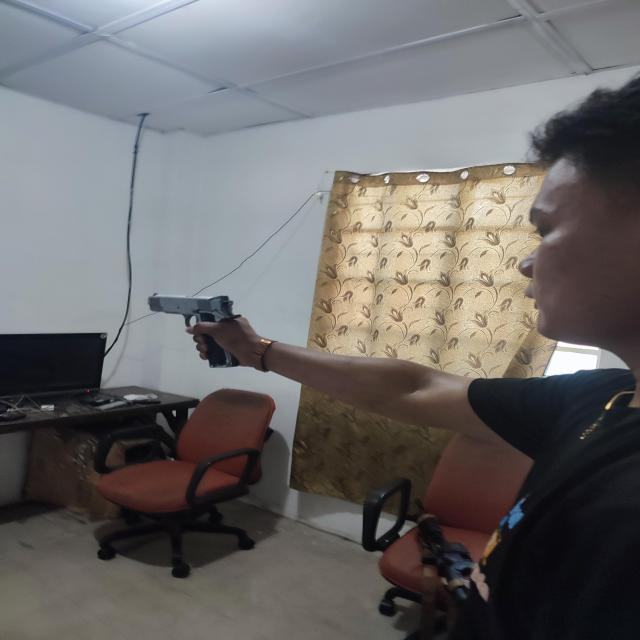pistol: (147, 294, 240, 366)
